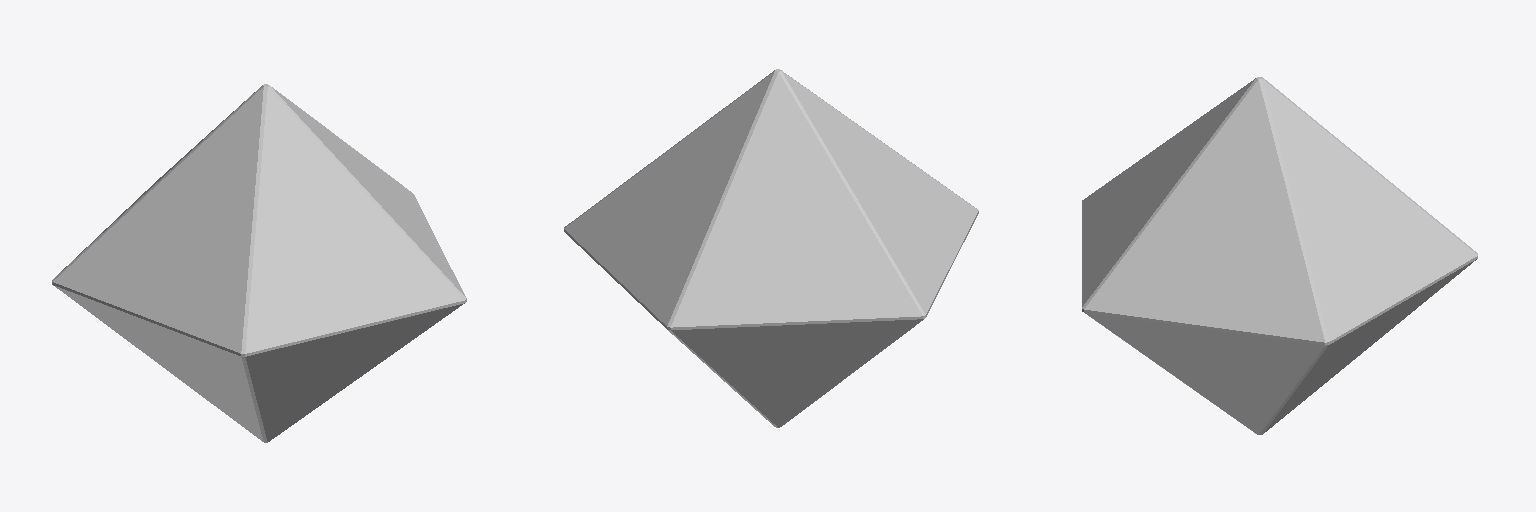
File: 5-point-cut.obj
3 renders of one model, left to right at view 1: azimuth 30°, elevation 25°; view 2: azimuth 150°, elevation 25°; view 3: azimuth 270°, elevation 25°, orthographic.
Visible parts, largest first — view 1: gem_Cylinder; view 2: gem_Cylinder; view 3: gem_Cylinder.
Part boxes in pixels (bbox=[...]): gem_Cylinder: bbox=[52, 84, 466, 442]; gem_Cylinder: bbox=[564, 69, 978, 427]; gem_Cylinder: bbox=[1082, 77, 1477, 434].
Bounding box in the file's own units: 18.78 × 17.69 × 17.86.